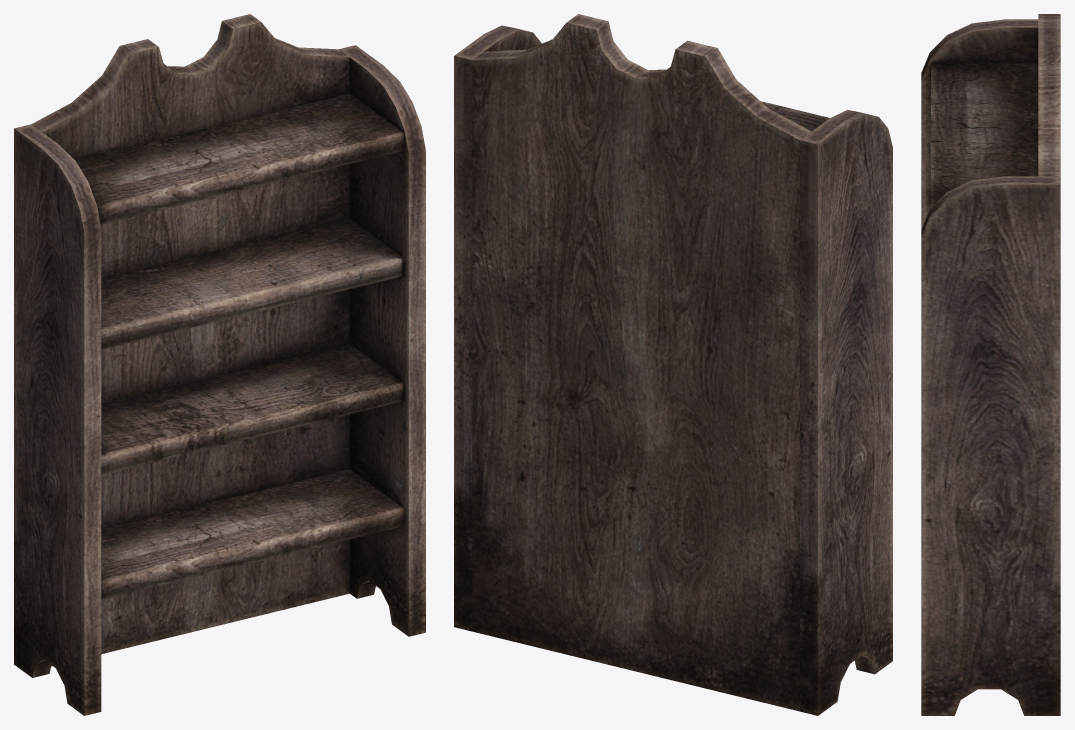
File: shelf02.dae
3 renders of one model, left to right at view 1: azimuth 30°, elevation 25°; view 2: azimuth 150°, elevation 25°; view 3: azimuth 270°, elevation 25°, orthographic. The views are drawn at different scales.
Visible parts, largest first — view 1: mesh_shelf01; view 2: mesh_shelf01; view 3: mesh_shelf01.
Part boxes in pixels (x1,y1,x2,y2): mesh_shelf01: (14,14,425,715); mesh_shelf01: (454,14,892,715); mesh_shelf01: (921,14,1060,715).
Bounding box in the file's own units: 2 × 3.32 × 0.7112.
